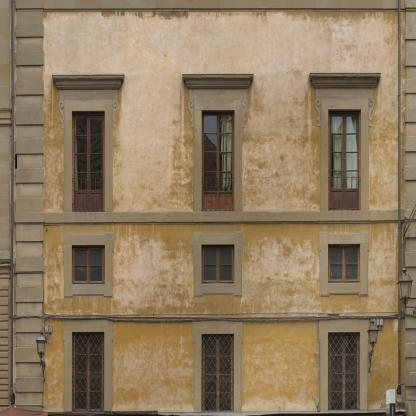Building Outline: (0, 1, 416, 416)
Cornice: (52, 75, 125, 91), (308, 73, 381, 89), (182, 74, 254, 89)
Facade: (0, 0, 416, 415)
Floor: (0, 0, 416, 211), (0, 315, 416, 411), (0, 219, 416, 308)
Floor Slab: (0, 211, 416, 219), (0, 308, 416, 315), (0, 411, 416, 416)
Pillar: (14, 0, 43, 412), (404, 1, 416, 416)
Window: (328, 109, 361, 210), (72, 112, 105, 212), (202, 110, 234, 211), (72, 332, 105, 412), (328, 333, 361, 411), (201, 334, 234, 412), (328, 244, 361, 283), (72, 245, 105, 284), (201, 245, 234, 284)
